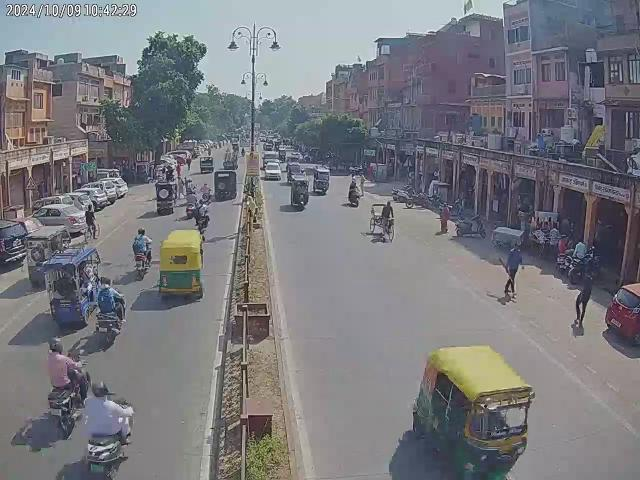auto: (412, 343, 532, 479), (46, 246, 98, 330), (157, 228, 206, 300), (212, 168, 238, 202), (288, 172, 310, 212), (154, 179, 178, 215), (313, 164, 331, 196)
bicycle-rider: (82, 204, 100, 243)
car: (20, 194, 91, 238), (604, 282, 640, 346), (72, 177, 128, 206)
helmet: (93, 379, 108, 397), (48, 336, 62, 355), (100, 275, 113, 287)
motorbike: (567, 252, 604, 280), (404, 192, 431, 208)
motorbike-rider: (44, 338, 92, 437), (132, 228, 152, 278), (192, 200, 210, 229)
person: (574, 266, 594, 328), (502, 242, 524, 298)
rickshow: (369, 199, 398, 243)
scooty: (454, 210, 488, 238)
scooty-rider: (80, 382, 136, 479), (94, 276, 127, 344)
